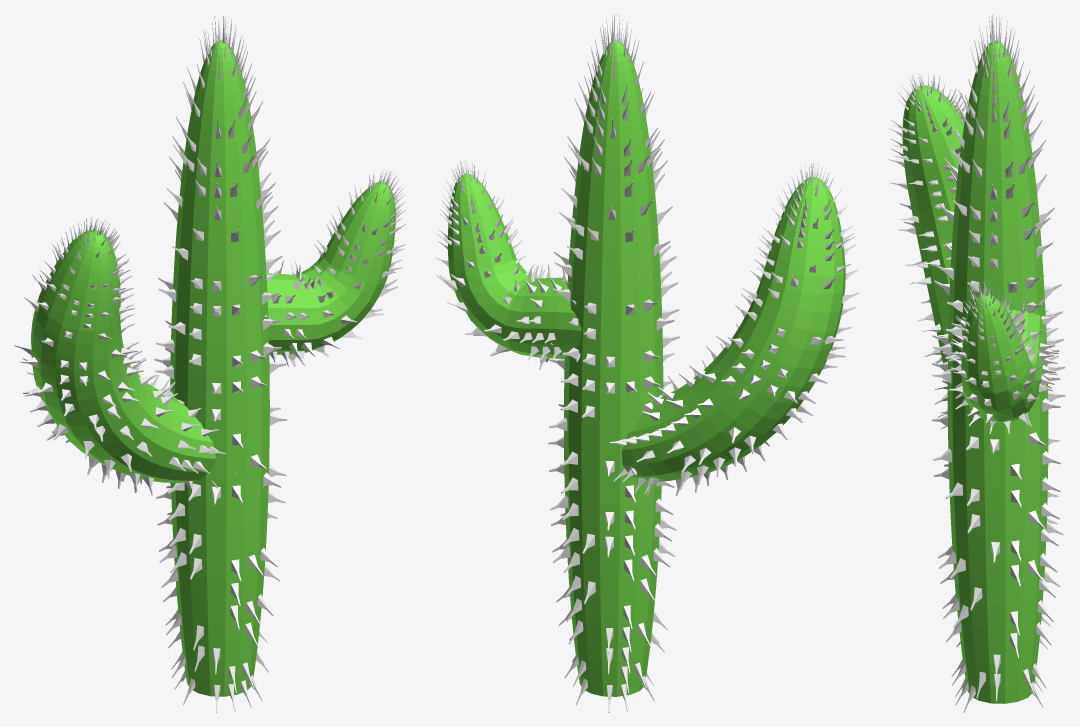
Rendered from cactus.fbx.
3 renders of one model, left to right at view 1: azimuth 30°, elevation 25°; view 2: azimuth 150°, elevation 25°; view 3: azimuth 270°, elevation 25°, orthographic.
Parts seen in each view (by area): view 1: Center, Top, Long Limb Upper Half, Short Limb, Bottom; view 2: Center, Top, Long Limb Upper Half, Short Limb, Bottom; view 3: Center, Top, Bottom, Long Limb Upper Half, Short Limb.
Part boxes in pixels (bbox=[...]): Center: bbox=[37, 267, 297, 581]; Top: bbox=[163, 15, 282, 298]; Long Limb Upper Half: bbox=[14, 217, 146, 429]; Short Limb: bbox=[277, 169, 406, 366]; Bottom: bbox=[161, 559, 279, 712]; Center: bbox=[528, 268, 813, 581]; Top: bbox=[554, 14, 676, 298]; Long Limb Upper Half: bbox=[716, 163, 859, 404]; Short Limb: bbox=[435, 159, 553, 369]; Bottom: bbox=[556, 560, 667, 712]; Center: bbox=[917, 272, 1065, 587]; Top: bbox=[936, 14, 1054, 301]; Bottom: bbox=[940, 566, 1060, 712]; Long Limb Upper Half: bbox=[888, 73, 967, 289]; Short Limb: bbox=[948, 281, 1056, 434].
Bounding box in the file's own units: 899 × 1491 × 350.
